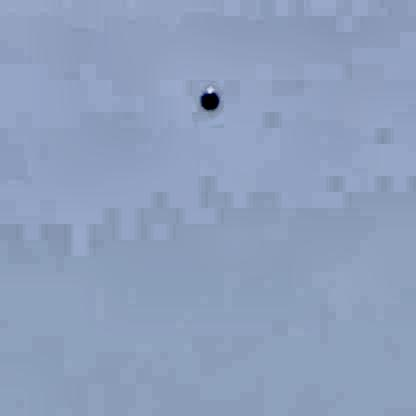golfball: (197, 81, 216, 106)
